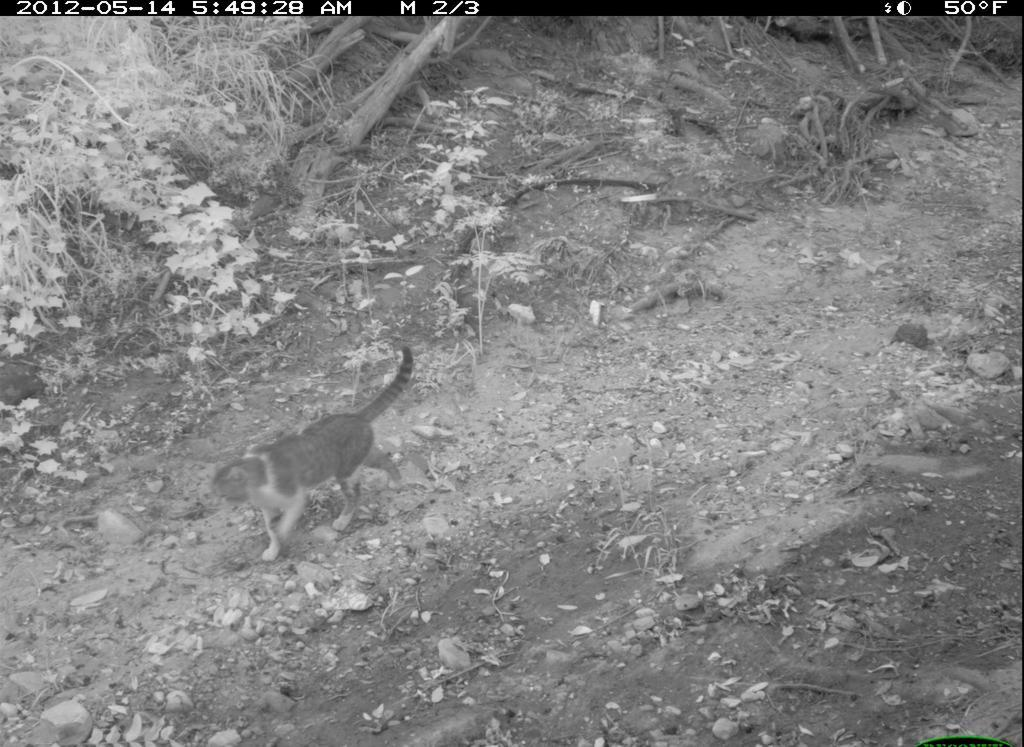cat: (207, 342, 424, 568)
